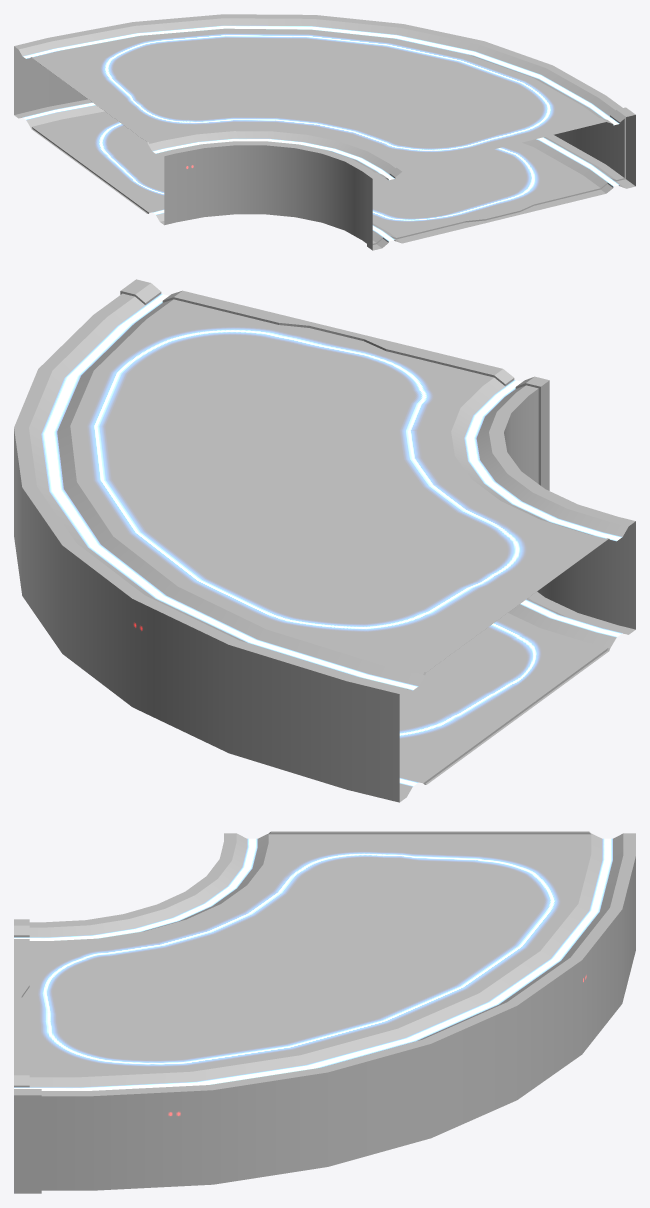
File: TurnLeft-2S_NoCaps.fbx
The picture shows the model from 3 angles, top to bottom: view 1: azimuth 30°, elevation 25°; view 2: azimuth 150°, elevation 25°; view 3: azimuth 270°, elevation 25°; orthographic projection. The views are drawn at different scales.
Visible parts, largest first — view 1: TurnLeft-2S_NoCaps; view 2: TurnLeft-2S_NoCaps; view 3: TurnLeft-2S_NoCaps.
Part boxes in pixels (x1=…): TurnLeft-2S_NoCaps: x1=14, y1=14, x2=635, y2=250; TurnLeft-2S_NoCaps: x1=14, y1=279, x2=635, y2=802; TurnLeft-2S_NoCaps: x1=14, y1=831, x2=635, y2=1193.
Bounding box in the file's own units: 3.75 × 0.6517 × 3.74.
